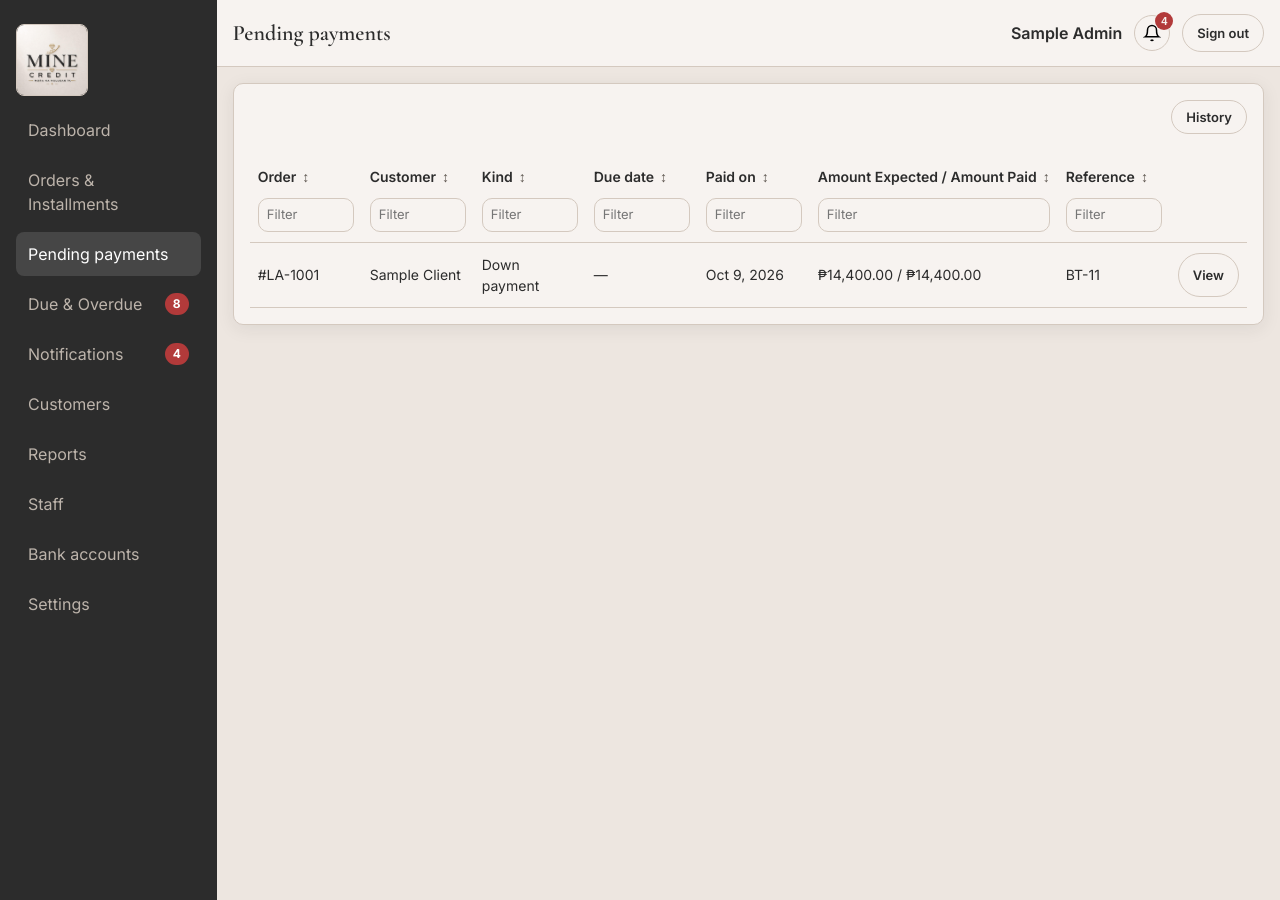
Test case: PendingPayments › closes the modal and refreshes the list after confirming
Click the button "View".
click(1208, 274)  # box 1178,252 -> 1239,296
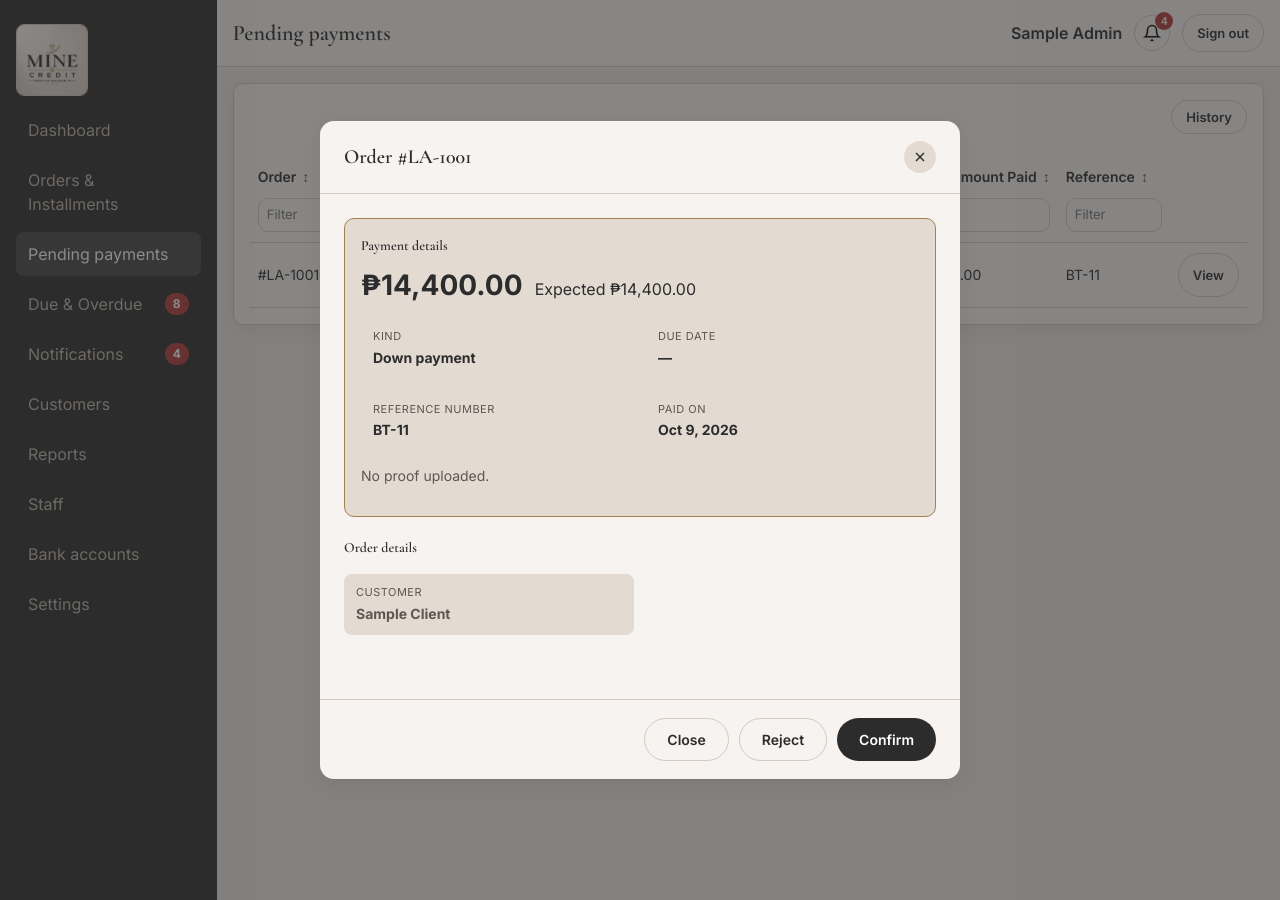
Click the button "Confirm".
click(887, 739)  # box 837,718 -> 936,761
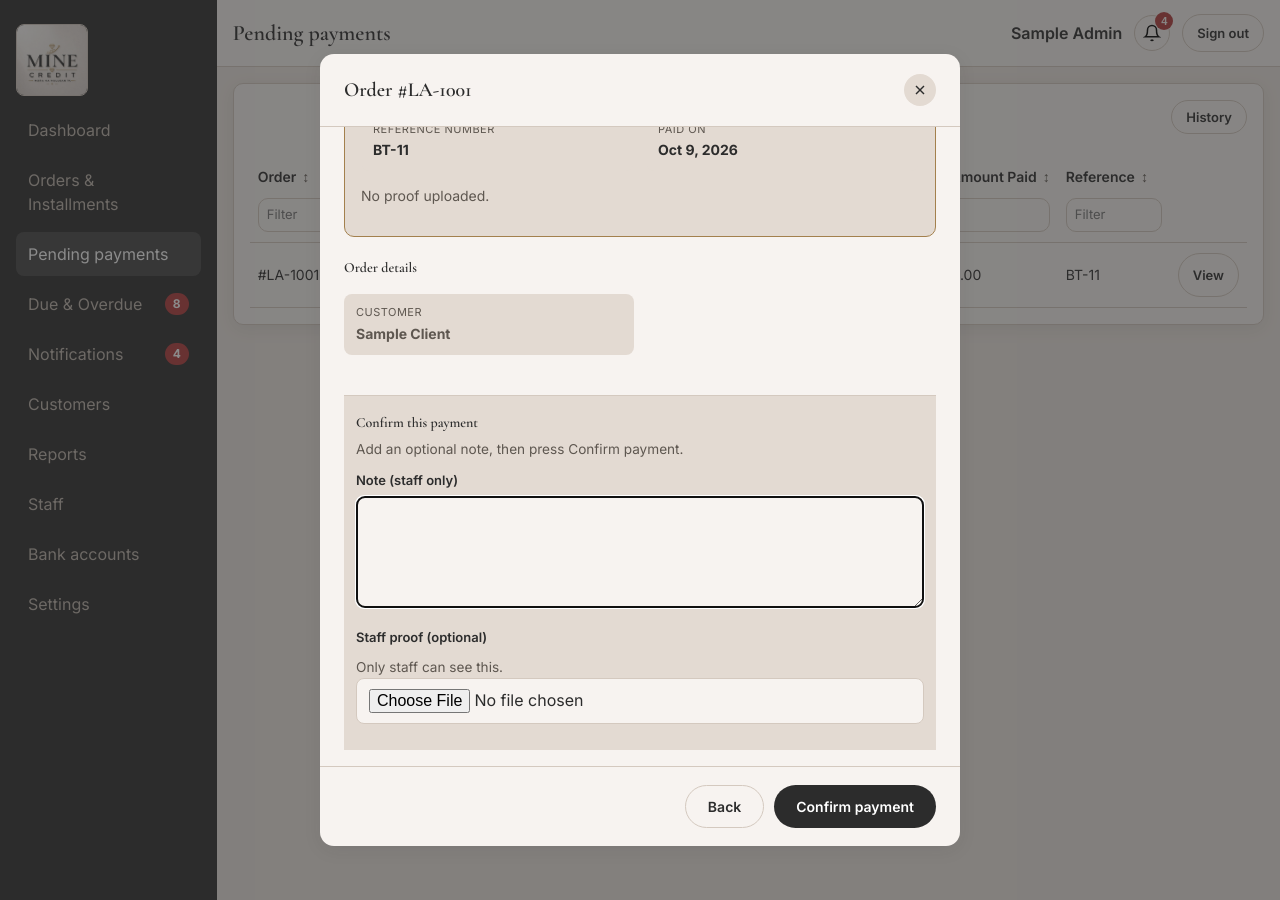
Click the button "Confirm payment".
click(855, 806)  # box 774,785 -> 936,828
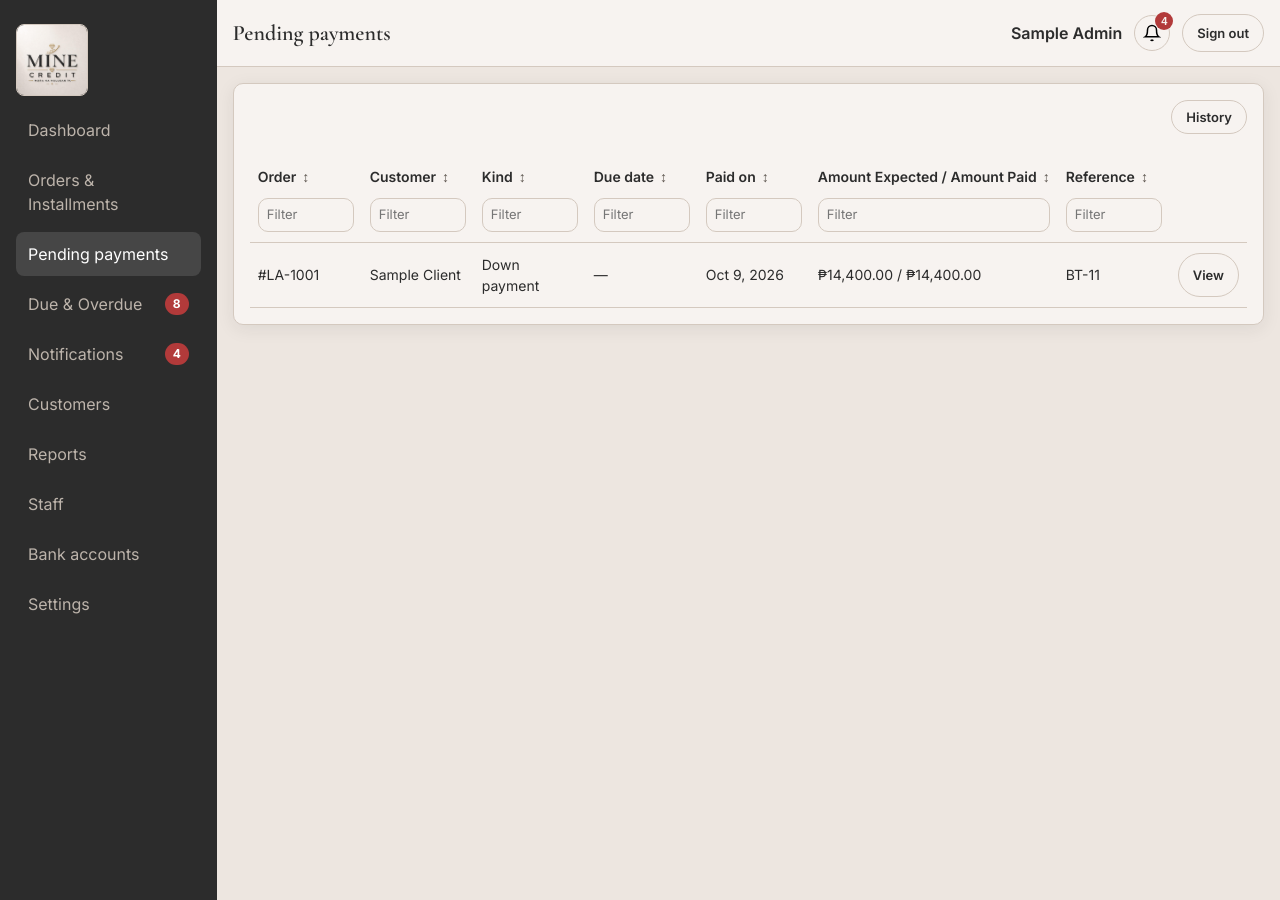
Result: the dialog is gone
